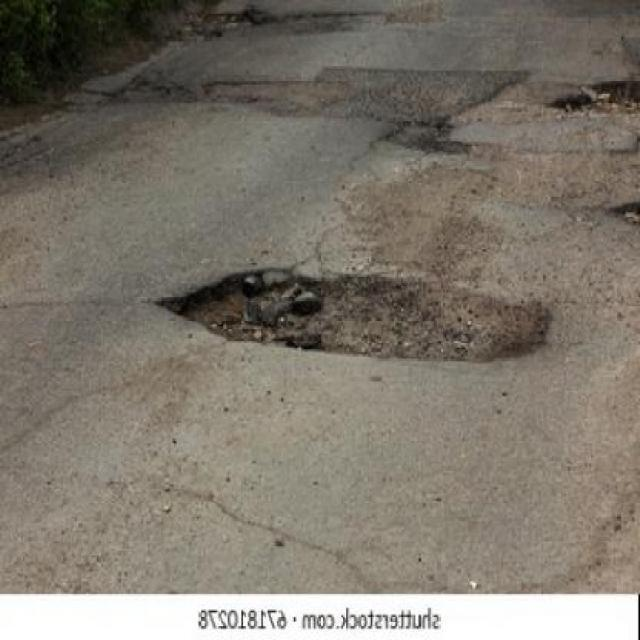Pothole: (159, 269, 550, 361), (549, 78, 640, 119), (609, 200, 640, 224)
